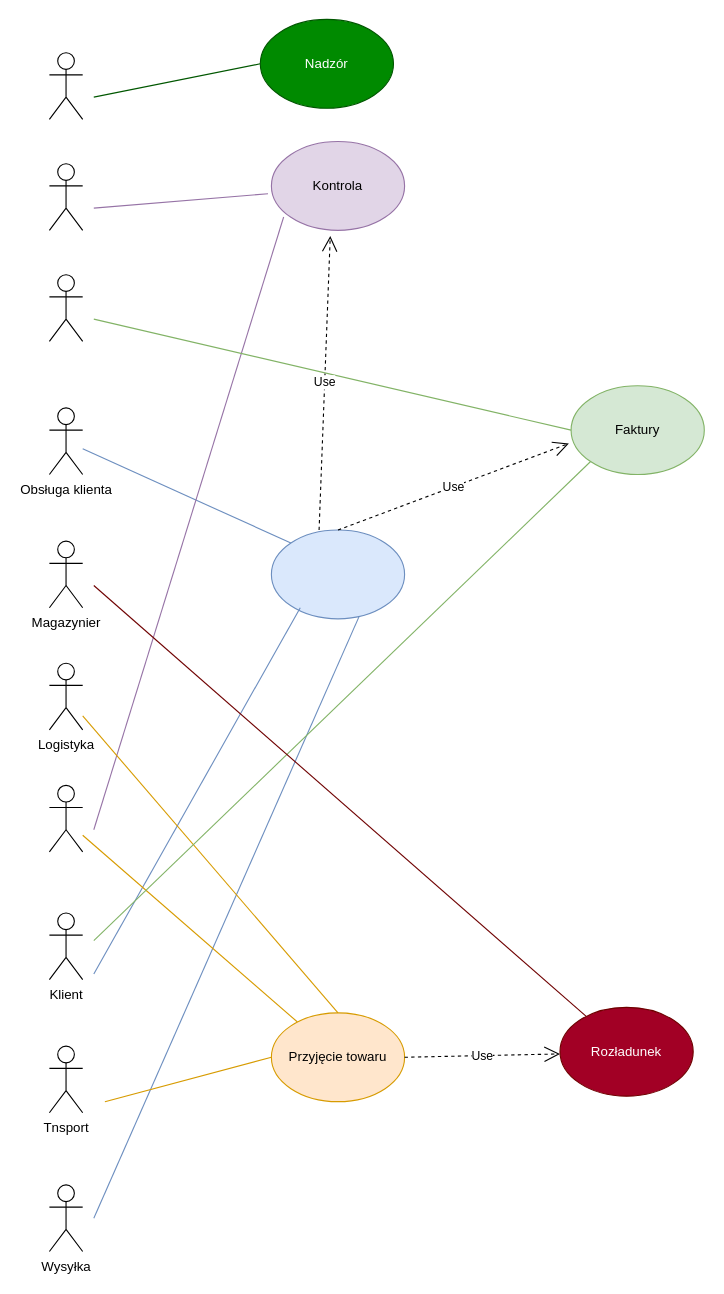
Some shapes in this 724 by 1294 pixel diagram are drawn without their labels. Here are the shapes that lost their labels. From the top down, the centre of each, then its label:
the point at 65,85: Kierownik
the point at 65,196: Ochrona
the point at 65,307: Administracja
the point at 337,574: Zamówienia
the point at 65,818: Kontrola jakości
